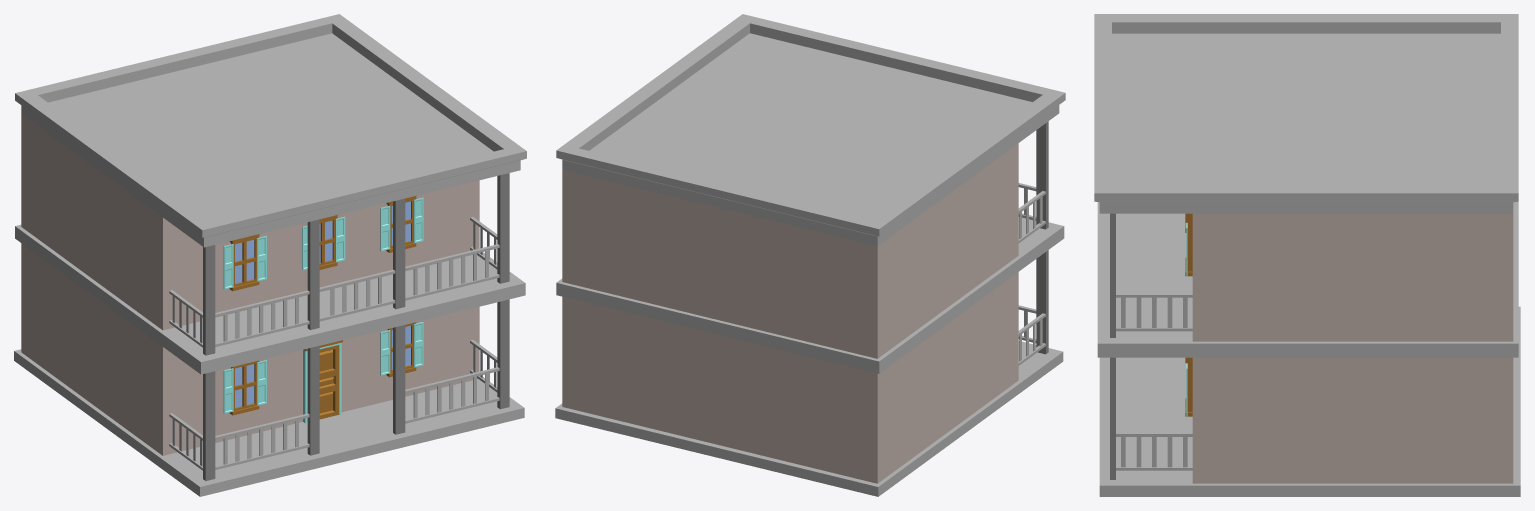
Rendered from House_02.fbx.
3 renders of one model, left to right at view 1: azimuth 30°, elevation 25°; view 2: azimuth 150°, elevation 25°; view 3: azimuth 270°, elevation 25°, orthographic. The views are drawn at different scales.
Visible parts, largest first — view 1: mesh_house_02; view 2: mesh_house_02; view 3: mesh_house_02.
Boxes of the visible parts, x1,y1,x2,y2 form: mesh_house_02: (14, 14, 526, 496); mesh_house_02: (555, 14, 1065, 496); mesh_house_02: (1094, 14, 1520, 496).
Bounding box in the file's own units: 4.1 × 3.24 × 4.12.
